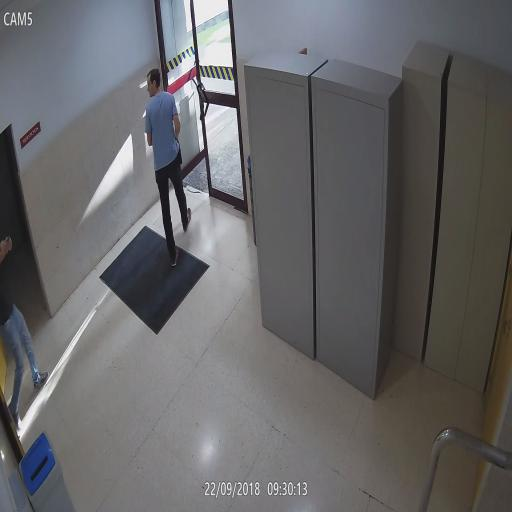Handgun: (0, 228, 13, 257)
